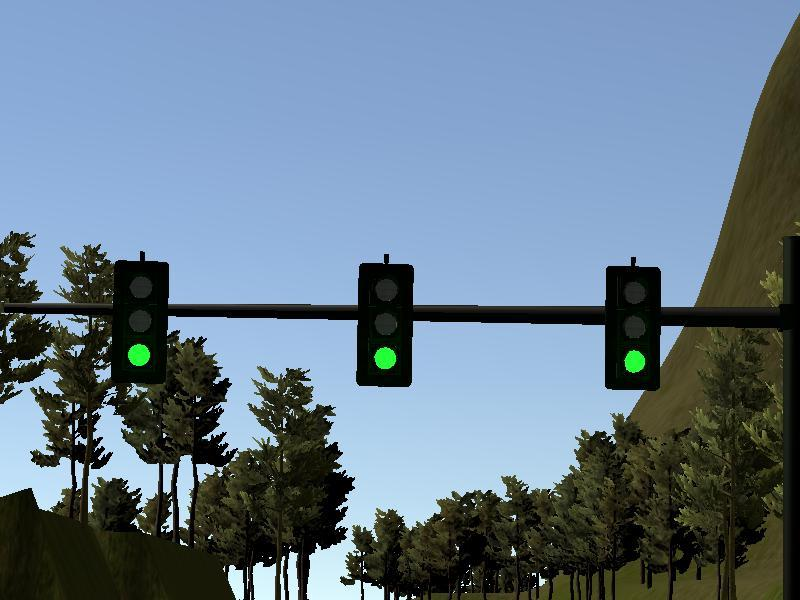Green: (607, 268, 659, 388), (115, 259, 165, 382), (362, 265, 410, 385)
